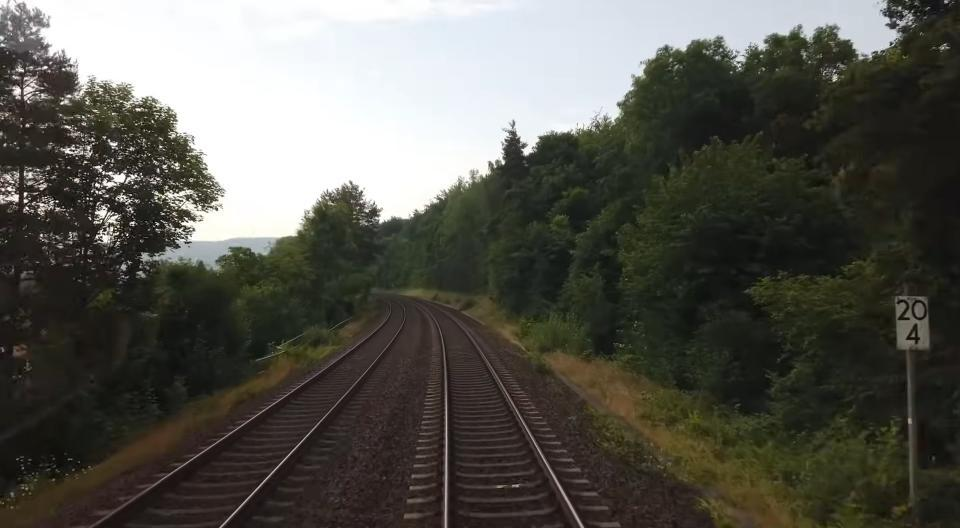Plant: (0, 297, 380, 528), (586, 407, 676, 481), (520, 347, 551, 374)
